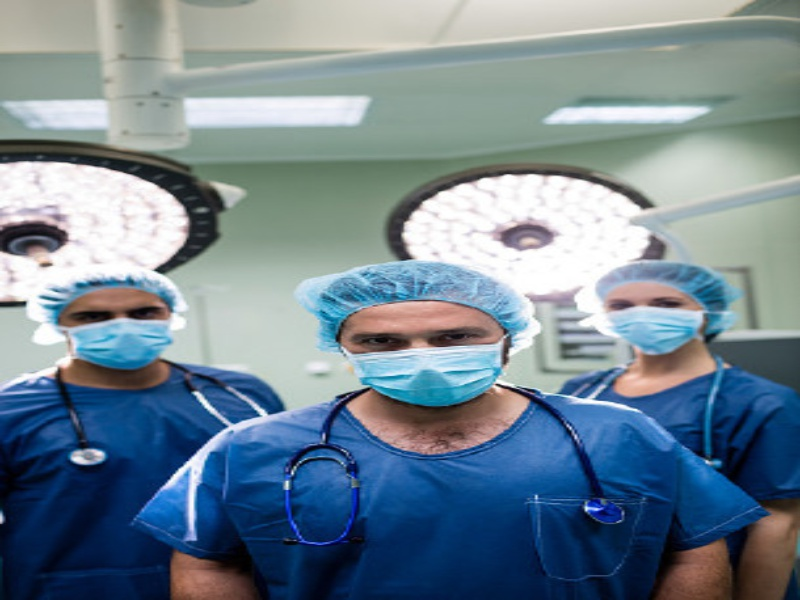mask: (319, 263, 545, 411), (49, 244, 194, 375), (586, 255, 735, 360)
